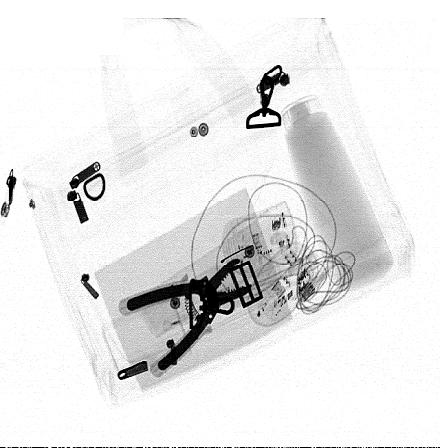Pliers: (123, 258, 253, 374)
